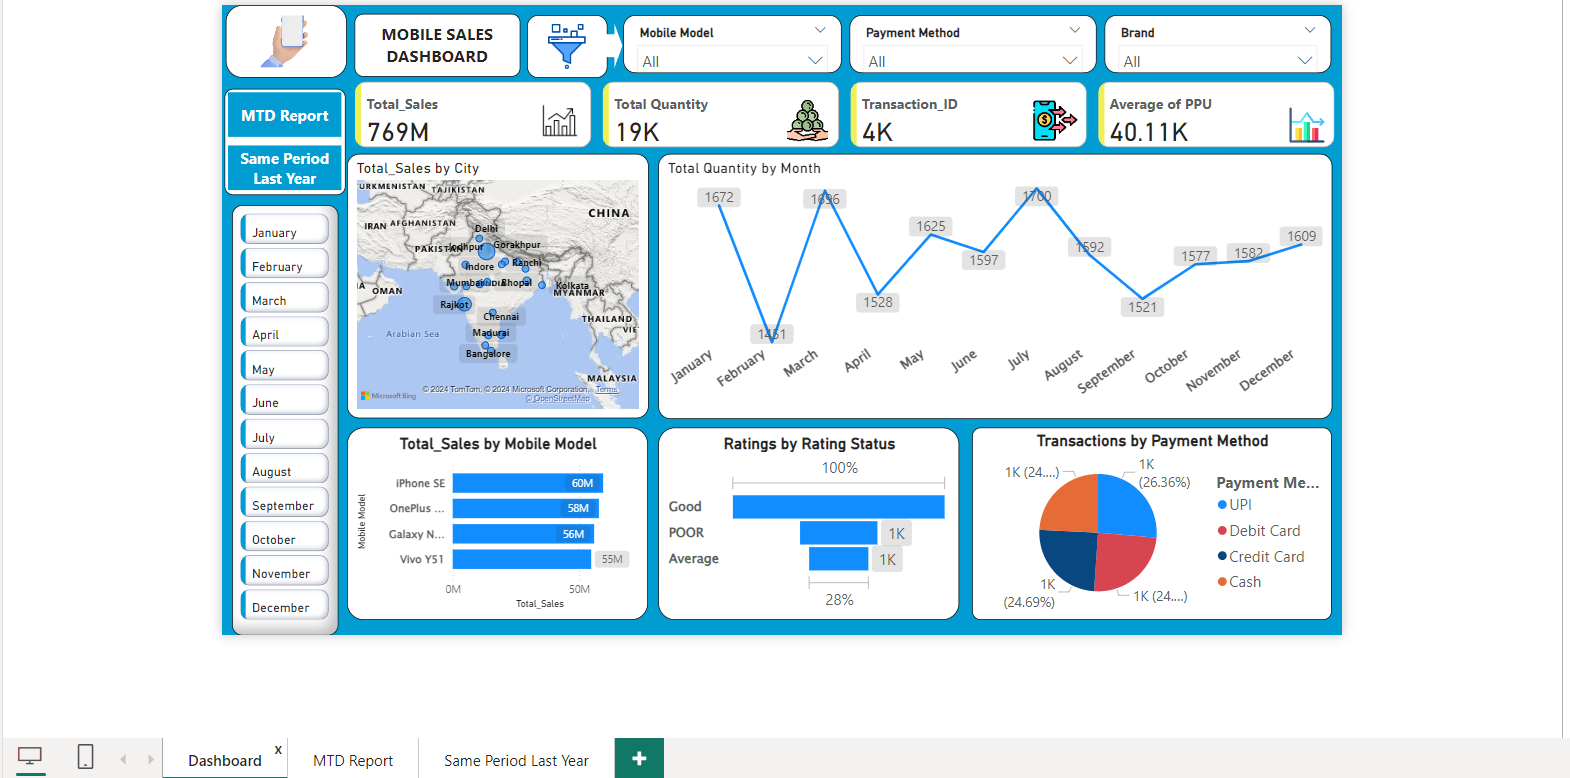

The page's visual inventory and layout, read from the dashboard file:
{"tool":"powerbi","page":{"name":"Dashboard","canvas":[1280,720],"ordinal":0},"visuals":[{"type":"image","box":[3.6,0,138.7,83.2],"z":0},{"type":"advancedSlicerVisual","fields":{"Values":["CALEDNAR.Date.Variation.Date Hierarchy.Month"]},"box":[11.7,228.3,121.7,491.7],"z":1000},{"type":"cardVisual","fields":{"Data":["CALEDNAR.Total_Sales","Mobile_Sales_Data.Total Quantity","CALEDNAR.Total Transaction_ID","Avg(Mobile_Sales_Data.Price Per Unit)"]},"box":[147.5,82.5,1132.5,85],"z":2000},{"type":"slicer","fields":{"Values":["Mobile_Sales_Data.Mobile Model"]},"box":[458.4,10.9,249.7,66.4],"z":3000},{"type":"slicer","fields":{"Values":["Mobile_Sales_Data.Payment Method"]},"box":[716.6,10.9,282.3,66.4],"z":4000},{"type":"slicer","fields":{"Values":["Mobile_Sales_Data.Brand"]},"box":[1008.6,10.9,259.4,66.4],"z":5000},{"type":"image","box":[348.7,10.9,91.7,72.4],"z":6000},{"type":"shape","box":[439.1,20.5,19.3,53.1],"z":7000},{"type":"textbox","box":[150.8,9.7,189.4,72.4],"z":8000},{"type":"map","fields":{"Category":["Mobile_Sales_Data.City"],"Size":["CALEDNAR.Total_Sales"]},"box":[142.5,170,345,302.5],"z":9000},{"type":"lineChart","fields":{"Category":["CALEDNAR.Date.Variation.Date Hierarchy.Month"],"Y":["Mobile_Sales_Data.Total Quantity"]},"box":[498.6,170,770,302.9],"z":10000},{"type":"funnel","title":"Ratings by Rating Status","fields":{"Category":["Mobile_Sales_Data.Rating_Status","Mobile_Sales_Data.Customer Ratings"],"Y":["CountNonNull(Mobile_Sales_Data.Customer Age)"]},"box":[498.6,482.9,344.3,220],"z":11000},{"type":"pieChart","title":"Transactions by Payment Method","fields":{"Category":["Mobile_Sales_Data.Payment Method"],"Y":["CALEDNAR.Transaction_ID"]},"box":[857.1,482.9,411.4,220],"z":12000},{"type":"clusteredBarChart","fields":{"Y":["CALEDNAR.Total_Sales"],"Category":["Mobile_Sales_Data.Mobile Model"]},"box":[142.9,482.9,344.3,220],"z":13000},{"type":"pageNavigator","box":[3.3,95,138.3,121.7],"z":14000}]}

Visuals, with their boxes on the page's 1280x720 design canvas (x1, y1, x2, y2). These are canvas units, not pixel positions in the 1570x778 screenshot, which may show the page scaled, cropped or inside an application window:
image: 4,0,142,83
advancedSlicerVisual - CALEDNAR.Date.Variation.Date Hierarchy.Month: 12,228,133,720
cardVisual - CALEDNAR.Total_Sales x Mobile_Sales_Data.Total Quantity: 148,82,1280,168
slicer - Mobile_Sales_Data.Mobile Model: 458,11,708,77
slicer - Mobile_Sales_Data.Payment Method: 717,11,999,77
slicer - Mobile_Sales_Data.Brand: 1009,11,1268,77
image: 349,11,440,83
shape: 439,20,458,74
textbox: 151,10,340,82
map - Mobile_Sales_Data.City x CALEDNAR.Total_Sales: 142,170,488,472
lineChart - CALEDNAR.Date.Variation.Date Hierarchy.Month x Mobile_Sales_Data.Total Quantity: 499,170,1269,473
"Ratings by Rating Status" funnel: 499,483,843,703
"Transactions by Payment Method" pieChart: 857,483,1268,703
clusteredBarChart - CALEDNAR.Total_Sales x Mobile_Sales_Data.Mobile Model: 143,483,487,703
pageNavigator: 3,95,142,217
